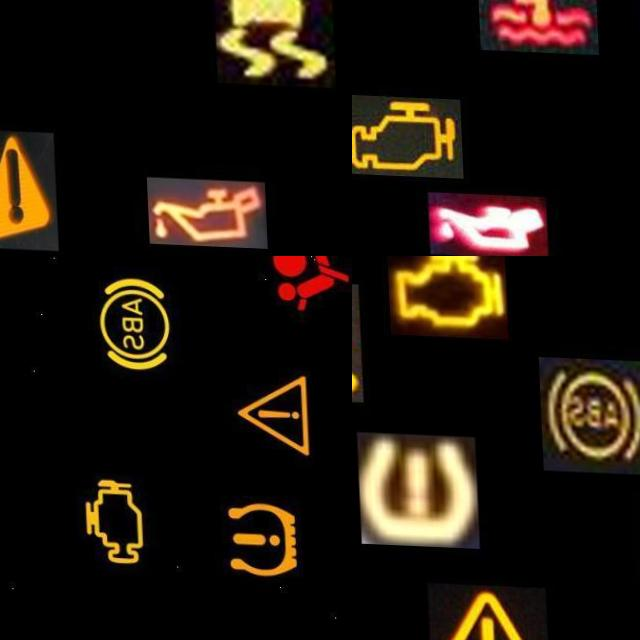Central Warning lamp: (423, 581, 545, 640), (0, 127, 53, 248)
Engine cooling system: (474, 0, 595, 51)
